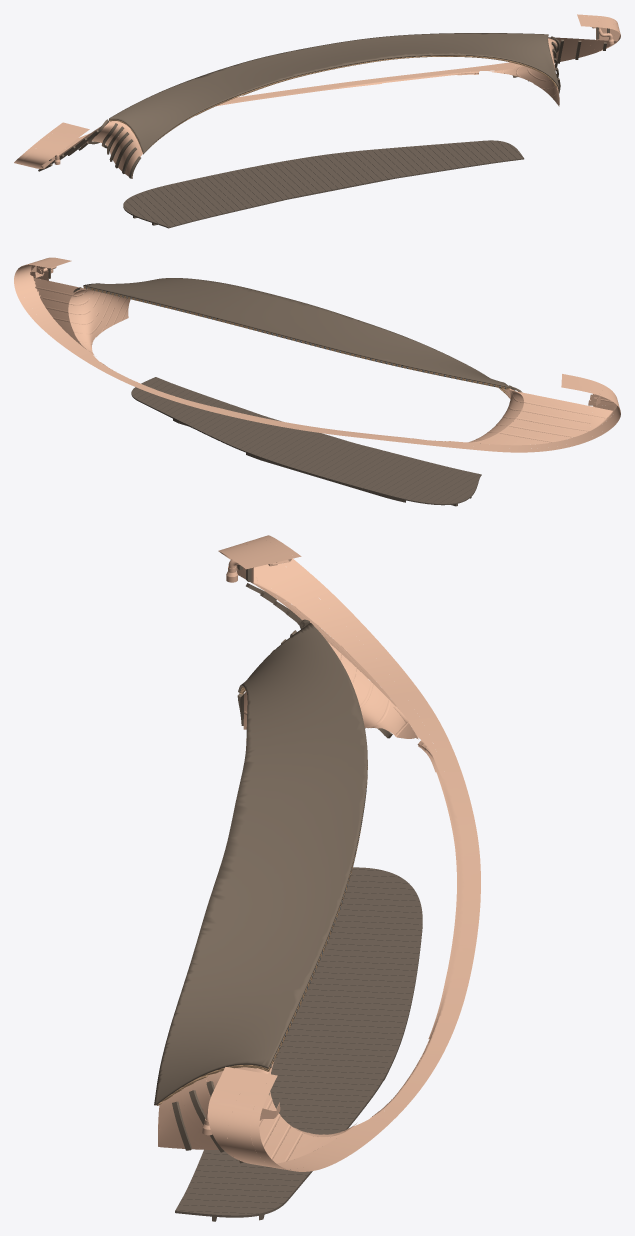
Rendered from context.glb.
3 views of the same model, one above another, from view 1: azimuth 30°, elevation 25°; view 2: azimuth 150°, elevation 25°; view 3: azimuth 270°, elevation 25° (orthographic). The views are drawn at different scales.
Visible parts, largest first — view 1: soffit_boards, deck, copper_parts, copper_sides, ceiling_shingles; view 2: deck, soffit_boards, copper_sides, copper_parts, ceiling_shingles, edge_fittings; view 3: soffit_boards, deck, copper_parts, copper_sides.
Boxes of the visible parts, x1,y1,x2,y2 form: soffit_boards: (38,27,609,178); deck: (123,140,524,228); copper_parts: (14,14,620,168); copper_sides: (37,27,620,178); ceiling_shingles: (109,55,557,152); deck: (131,377,481,506); soffit_boards: (48,268,522,443); copper_sides: (31,265,617,445); copper_parts: (14,257,620,452); ceiling_shingles: (83,286,509,395); edge_fittings: (86,287,505,389); soffit_boards: (154,565,392,1163); deck: (175,867,422,1221); copper_parts: (202,535,480,1171); copper_sides: (158,564,418,1164).
Bounding box in the file's own units: 14.75 × 2.99 × 3.49.
